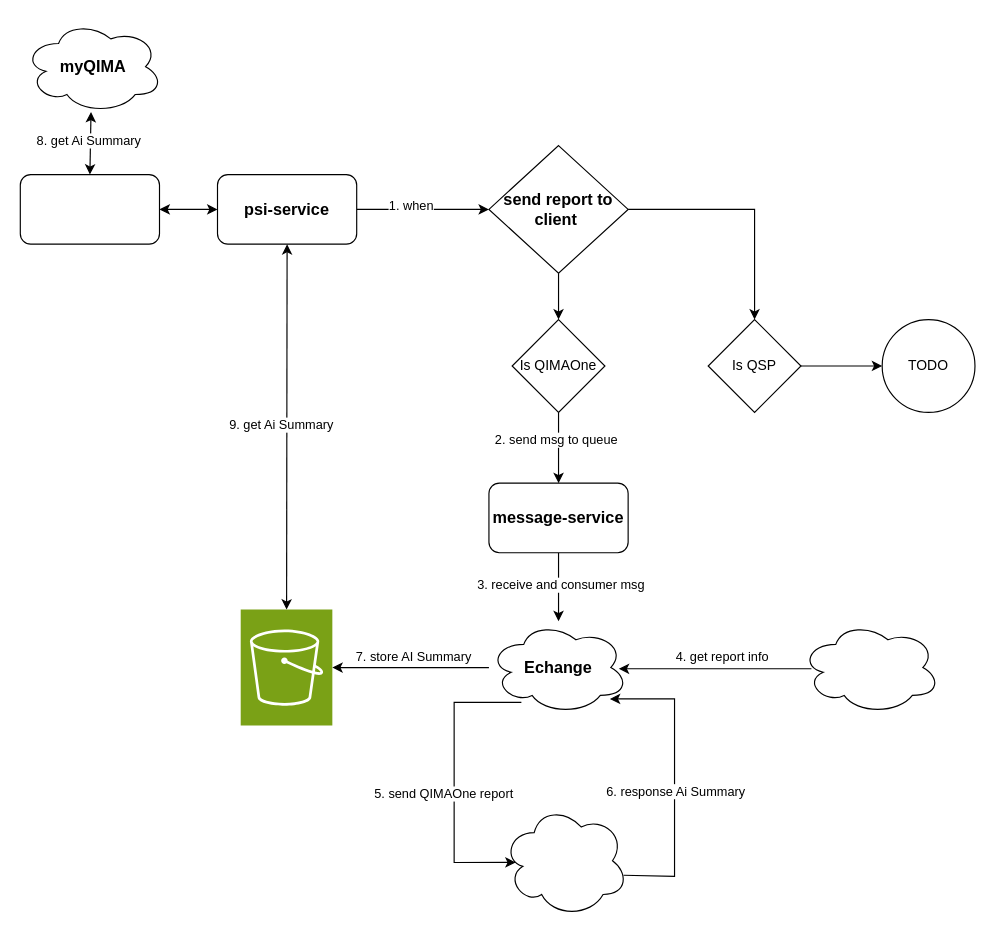
Image size: 995x937. Some labels were removed from this diagram. Each missing label, with the centre of its shape:
data team: the point at 565,860
public-api: the point at 89,208
QimaOne: the point at 870,667
S3: the point at 286,667
